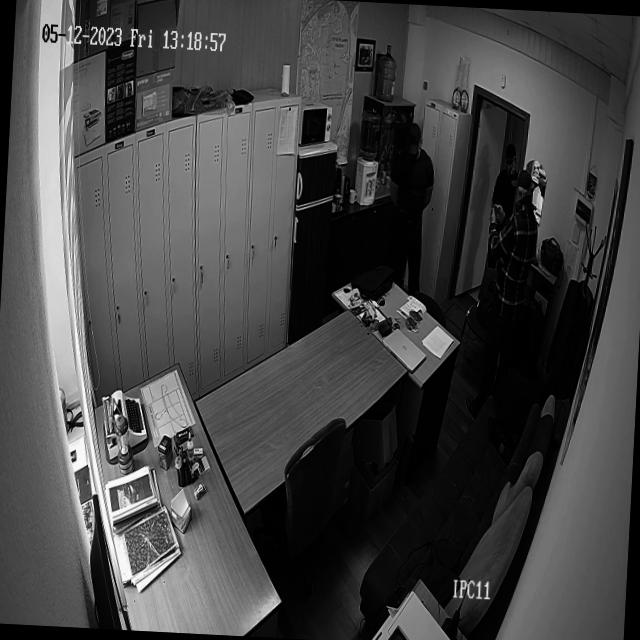person: (463, 167, 542, 426), (382, 119, 439, 294)
